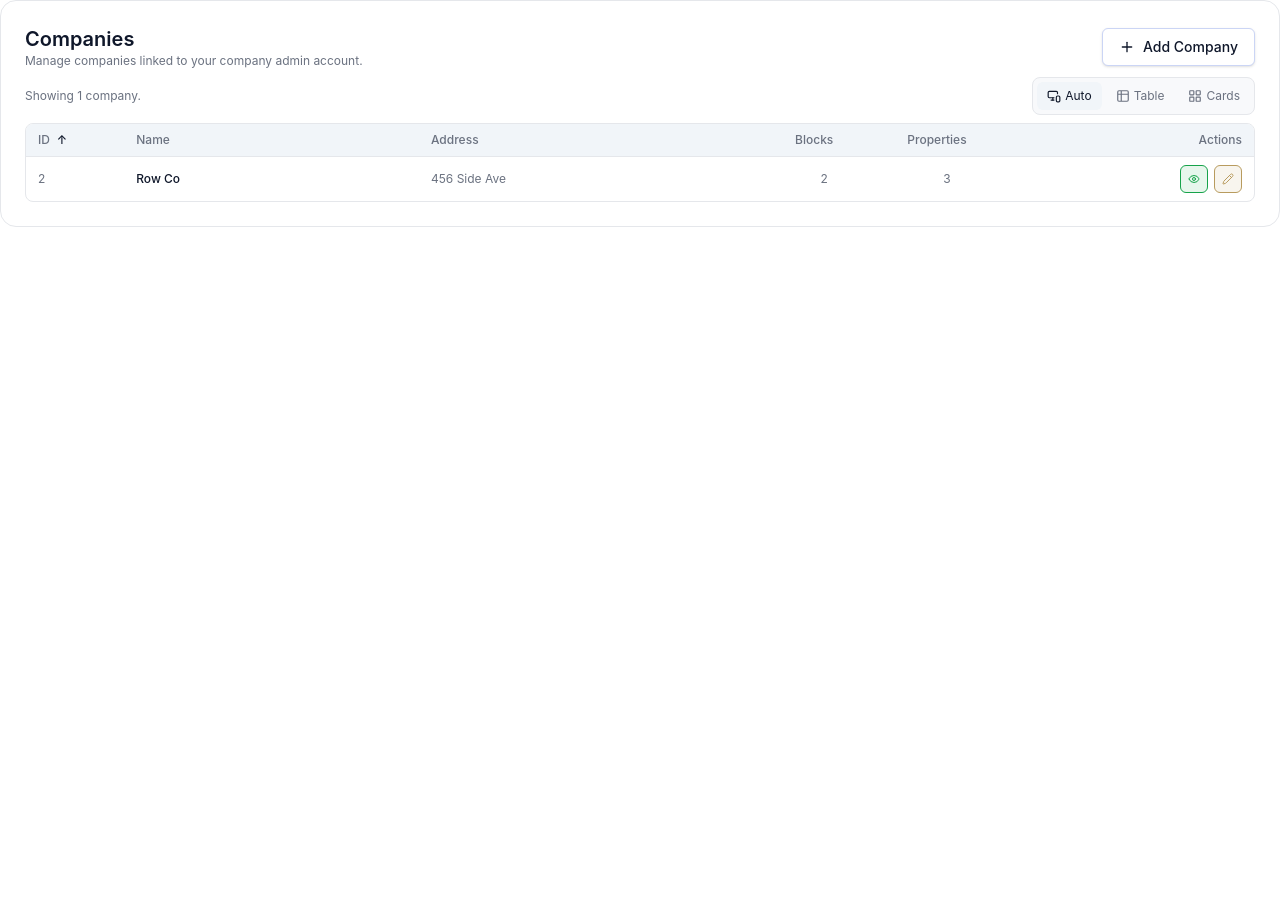
CompaniesManager › opens details modal when table row is clicked
Click the row "2 Row Co 456 Side Ave 2 3".
click(640, 179)  # box [26,156,1254,201]
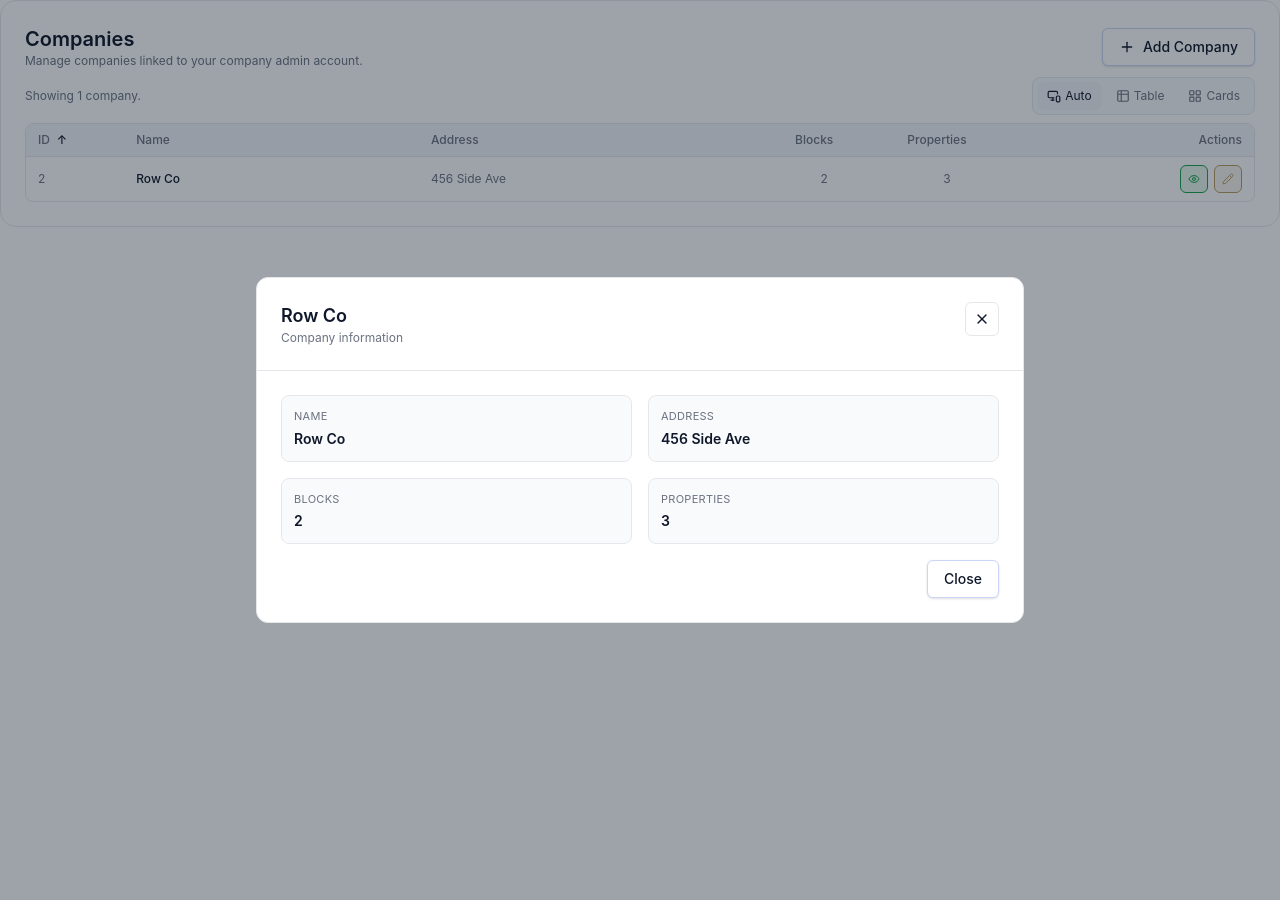
Expected: the text "456 Side Ave" is shown, [661,430,750,446]
Expected: the text "Blocks" is shown, [294,492,340,506]
